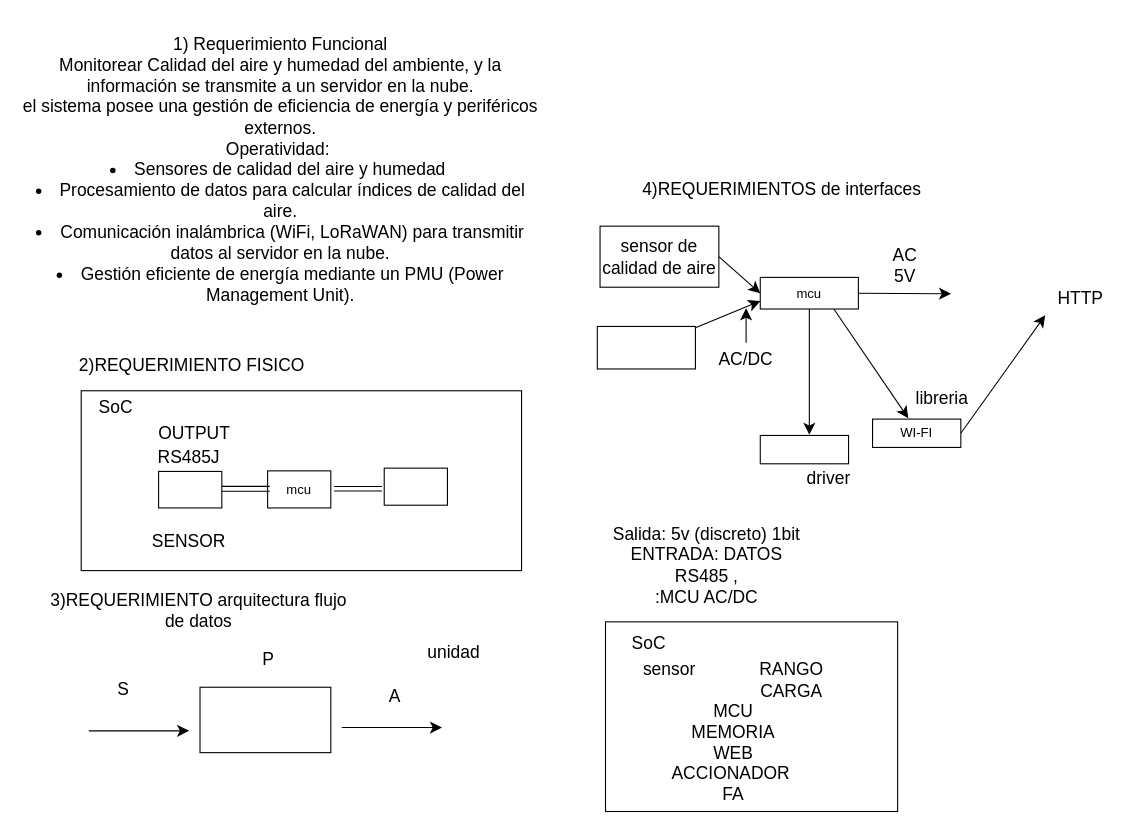
Some shapes in this 1131 by 831 pixel diagram are drawn without their labels. The shapes that lost their labels are listed below. From the top down, each one's centre as x and y in pixels, then its label:
At pixel 645 347: "sensor de humedad".
At pixel 804 449: "USB".
